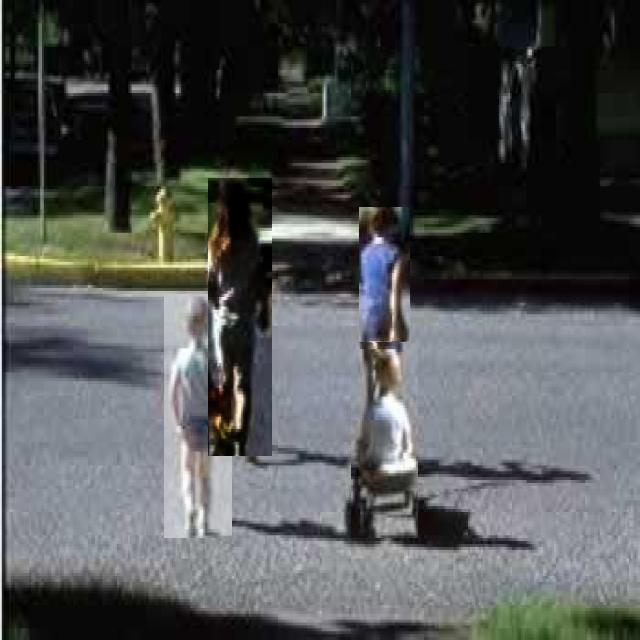without scooter: (208, 178, 272, 456), (165, 294, 232, 538), (352, 344, 418, 538), (360, 208, 412, 436)
